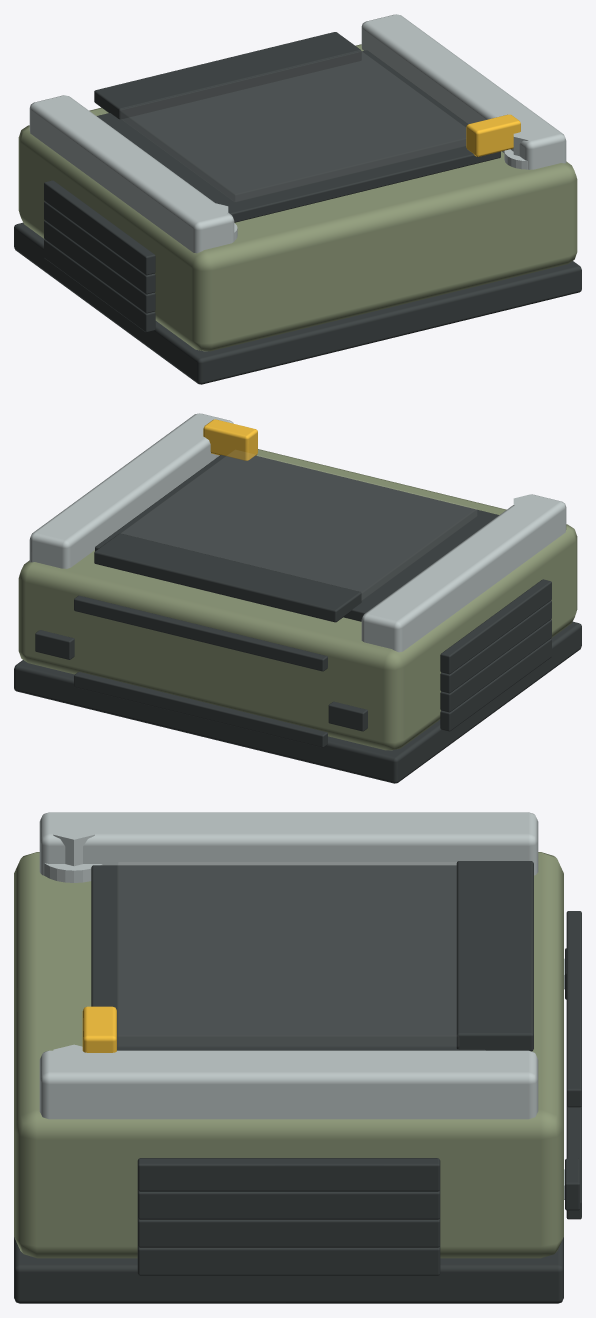
File: mountain-border-checkpoint-mountain-border-checkpoint--e042c30f__30302.glb
3 views of the same model, one above another, from view 1: azimuth 30°, elevation 25°; view 2: azimuth 150°, elevation 25°; view 3: azimuth 270°, elevation 25° (orthographic). The views are drawn at different scales.
Visible parts, largest first — view 1: mountain-border-checkpoint-passport-reader; view 2: mountain-border-checkpoint-passport-reader; view 3: mountain-border-checkpoint-passport-reader.
Boxes of the visible parts, <box> form: mountain-border-checkpoint-passport-reader: <box>14,14,581,384</box>; mountain-border-checkpoint-passport-reader: <box>14,413,581,783</box>; mountain-border-checkpoint-passport-reader: <box>14,812,581,1303</box>.
Size of the model in its own units: 0.402 by 0.155 by 0.3305.
